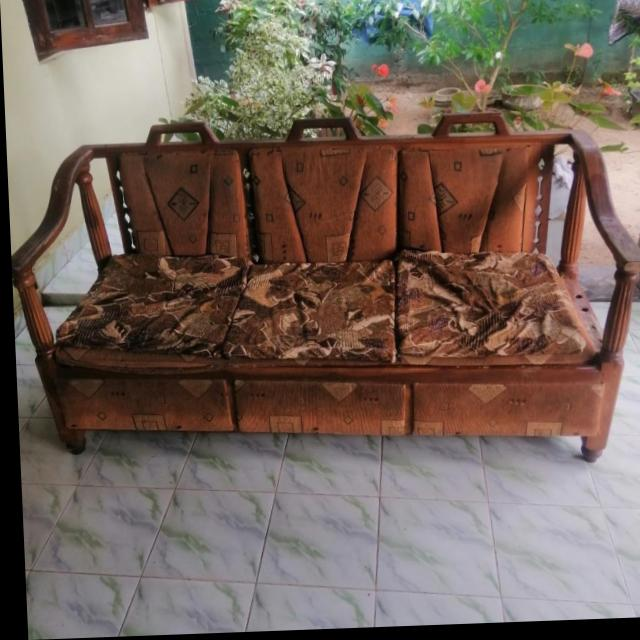Sofa: (5, 111, 640, 484)
